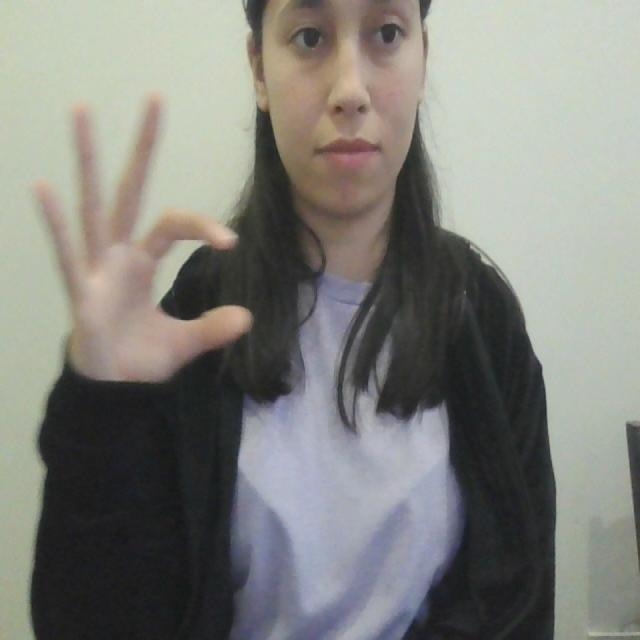Tuvalet: (33, 74, 251, 401)
